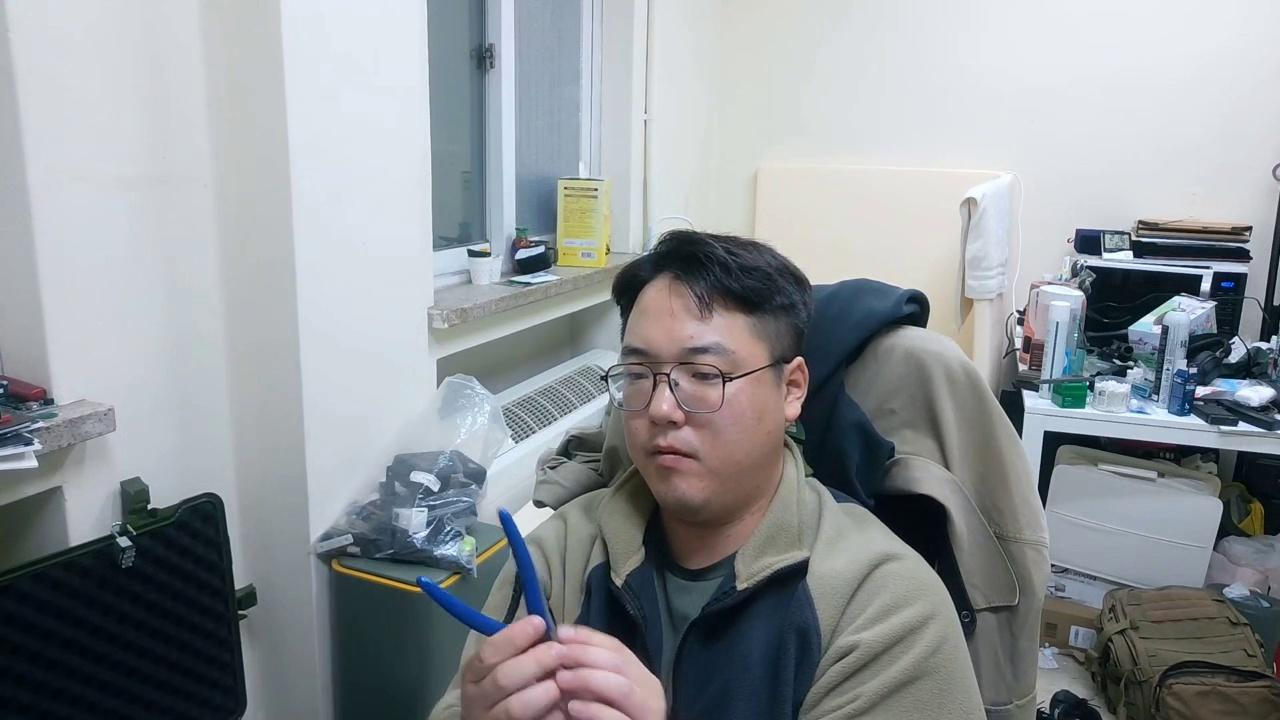blue_pliers: (415, 506, 563, 648)
